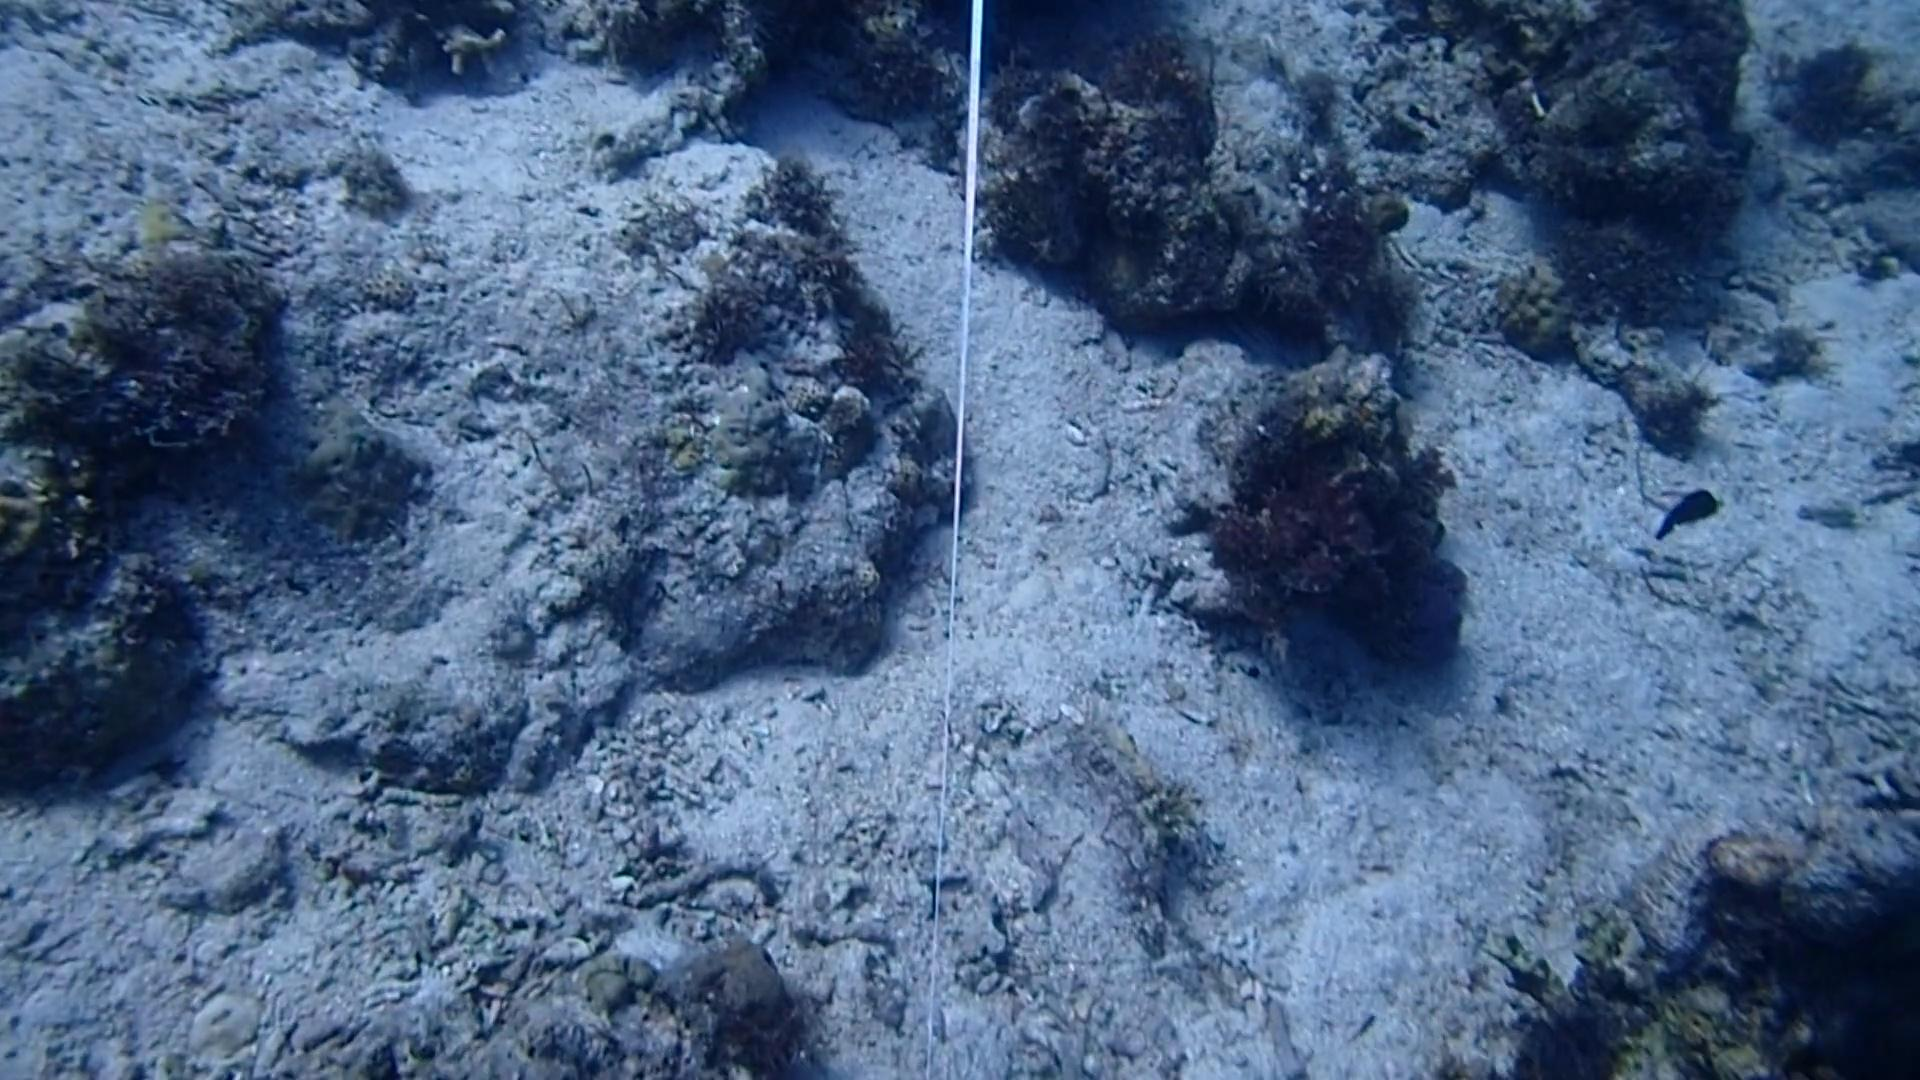Dark Fish: (1640, 469, 1731, 558)
